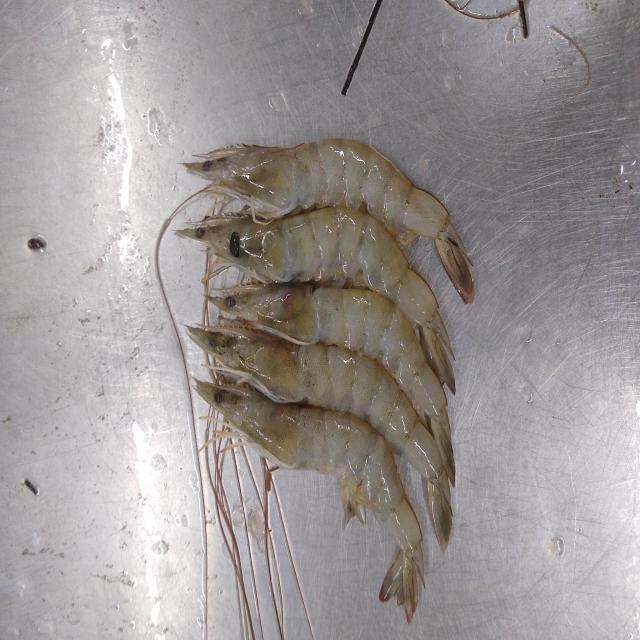shrimp: (195, 380, 424, 620), (176, 207, 451, 385), (188, 327, 450, 513), (185, 138, 475, 303), (210, 283, 455, 422)
